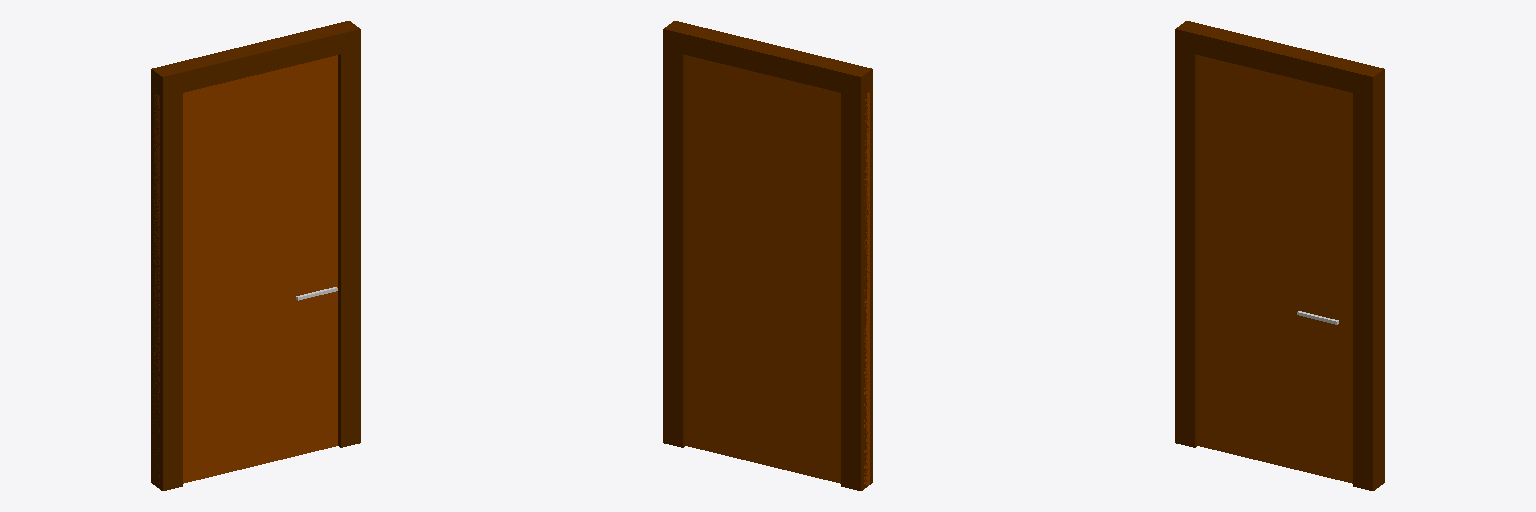
URDF robot description (urdf_door):
<?xml version="1.0" ?>
<robot name="urdf_door">
    <link name="world"/>
    <joint name="fixed" type="fixed">
        <parent link="world"/>
        <child link="doorFrameLink"/>
        <origin xyz="-0.5 0 0"/>
    </joint>

    <link name="doorFrameLink">
        <inertial>
            <origin rpy="0 0 0" xyz="0 0 0.35"/>
            <mass value="1.0"/>
            <inertia ixx="0.1" ixy="0" ixz="0" iyy="0.1" iyz="0" izz="0.1"/>
        </inertial>
        <visual>
            <origin rpy="0 0 0" xyz="0.05 0 1"/>
            <geometry>
                <box size="0.1 0.1 2"/>
            </geometry>
            <material name="framemat0">
                <color rgba="0.4 0.2 0.0 1" />
            </material>
        </visual>
        <visual>
            <origin rpy="0 0 0" xyz="0.95 0 1"/>
            <geometry>
                <box size="0.1 0.1 2"/>
            </geometry>
            <material name="framemat0"/>
        </visual>
        <visual>
            <origin rpy="0 0 0" xyz="0.5 0 1.95"/>
            <geometry>
                <box size="1 0.1 0.1"/>
            </geometry>
            <material name="framemat0"/>
        </visual>

        <collision>
            <origin rpy="0 0 0" xyz="0.05 0 1"/>
            <geometry>
                <box size="0.1 0.1 2"/>
            </geometry>
        </collision>
        <collision>
            <origin rpy="0 0 0" xyz="0.95 0 1"/>
            <geometry>
                <box size="0.1 0.1 2"/>
            </geometry>
        </collision>
        <collision>
             <origin rpy="0 0 0" xyz="0.5 0 0.95"/>
             <geometry>
                 <box size="1 0.1 0.1"/>
             </geometry>
        </collision>
        <collision>
             <origin rpy="0 0 0" xyz="0.5 0 0.05"/>
             <geometry>
                 <box size="1 0.1 0.1"/>
             </geometry>
        </collision>
    </link>

    <link name="doorLink">
        <inertial>
            <origin rpy="0 0 0" xyz="0.4 0 0.0"/>
            <mass value="1.0"/>
            <inertia ixx="0.048966669" ixy="0" ixz="0" iyy="0.046466667" iyz="0" izz="0.0041666669"/>
        </inertial>
        <visual>
            <origin rpy="0 0 0" xyz="0.4 0 0.0"/>
            <geometry>
                <box size="0.9  0.05 1.9"/>
            </geometry>
            <material name="doormat0">
                <color rgba="0.6 0.29 0.0 1" />
            </material>
        </visual>
        <collision>
            <origin rpy="0 0 0" xyz="0.4 0 0.0"/>
            <geometry>
                <box size="0.9  0.05 1.9"/>
            </geometry>
        </collision>
    </link>

    <joint name="joint_doorFrameLink_doorLink" type="revolute">
        <parent link="doorFrameLink"/>
        <child link="doorLink"/>
        <dynamics damping="1.0" friction="4.0"/>
        <origin xyz="0.05 0 0.95"/>
	<axis xyz="0 0 1"/>
	<limit lower="-1.5708" upper="0.1" />
    </joint>

    <link name="handleLink">
        <inertial>
            <origin rpy="0 0 0" xyz="0 0 0"/>
            <mass value="0.1"/>
            <inertia ixx="0.001" ixy="0" ixz="0" iyy="0.001" iyz="0" izz="0.001"/>
        </inertial>
        <visual>
            <origin rpy="0 0 0" xyz="0 0 0"/>
            <geometry>
                <box size="0.015 0.015 0.2"/>
            </geometry>
            <material name="handle_matreial">
                <color rgba="0.87 0.87 0.87 0.8" />
            </material>
        </visual>
        <collision>
            <origin rpy="0 0 0" xyz="0 0 0"/>
            <geometry>
                <box size="0.015 0.015 0.2"/>
            </geometry>
        </collision>
    </link>

    <joint name="handle_joint" type="fixed">
        <parent link="doorLink"/>
        <child link="handleLink"/>
        <origin xyz="0.7 -0.1 -0.15" rpy="4.7124 0 -1.5708"/>
        <axis xyz="1 0 0"/>
    </joint>

    <link name="door_handle_dummy_link">
        <!-- This dummy link is added s.t. the handle is the parent of some link and we can find the handle's index. -->
        <inertial>
            <origin rpy="0 0 0" xyz="0 0 0"/>
            <mass value="0.1"/>
            <inertia ixx="1" ixy="0" ixz="0" iyy="1" iyz="0" izz="1"/>
        </inertial>
    </link>

    <joint name="door_handle_dummy_joint" type="fixed">
        <origin xyz="0 0 0" rpy="0 0 0"/>
        <parent link="handleLink"/>
        <child link="door_handle_dummy_link"/>
    </joint>

</robot>

--- Render facts (derived) ---
3 views of the same robot in one strip: view 1: azimuth 30°, elevation 25°; view 2: azimuth 150°, elevation 25°; view 3: azimuth 330°, elevation 25° (orthographic).
Robot: urdf_door — 5 links, 4 joints (1 revolute, 3 fixed); root link world; default pose: all joints at 0.
Links seen in each view (by area): view 1: doorLink, doorFrameLink; view 2: doorLink, doorFrameLink; view 3: doorLink, doorFrameLink.
Link boxes in pixels (x1,y1,x2,y2): doorLink: (154,55,337,488); doorFrameLink: (151,21,360,490); doorLink: (686,55,869,487); doorFrameLink: (663,21,872,490); doorLink: (1198,55,1352,483); doorFrameLink: (1175,21,1384,490).
Bounding box of the posed robot: 1 × 0.1575 × 2 m (x, y, z).
Geometry: primitives only (box / cylinder / sphere), no mesh files.